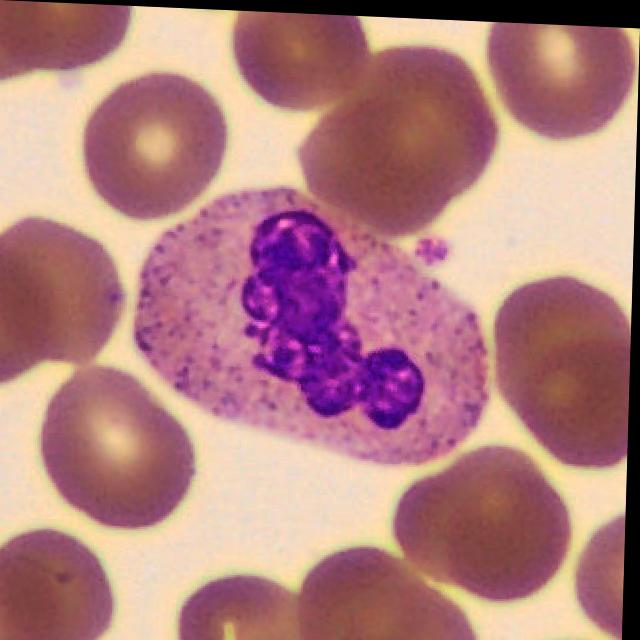Neutrofilo segmentado: (134, 186, 490, 463)
